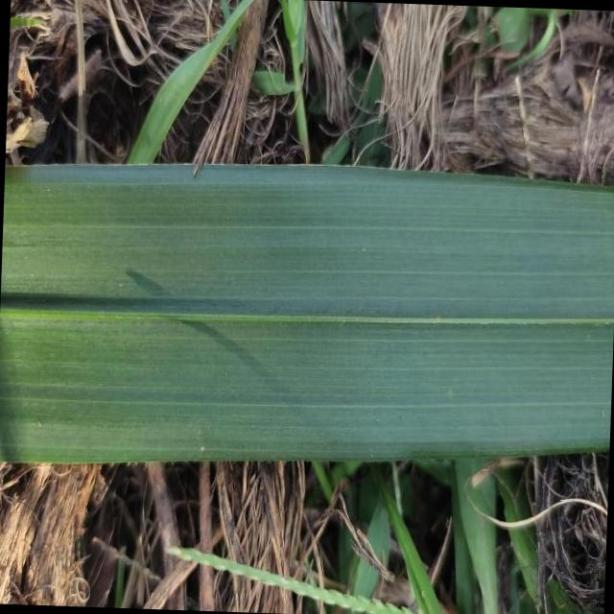Healthy: (0, 158, 614, 464)
